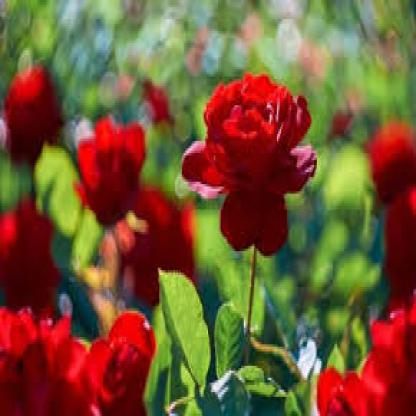Rose-Mawar: (178, 68, 315, 271), (1, 300, 162, 415), (314, 298, 416, 415)
